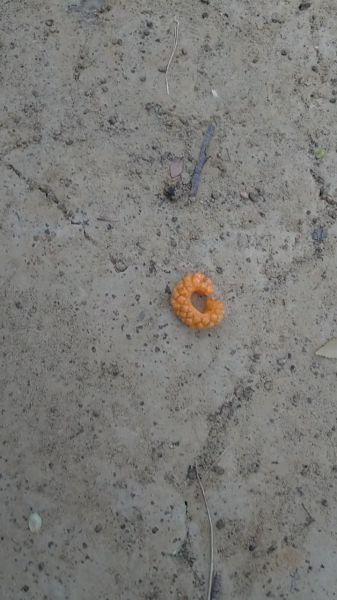eggs: (171, 265, 226, 329)
